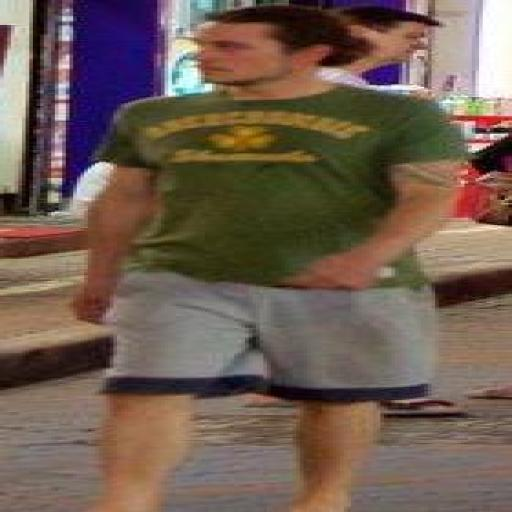person: (74, 6, 464, 511), (322, 6, 442, 88), (66, 162, 113, 219)
